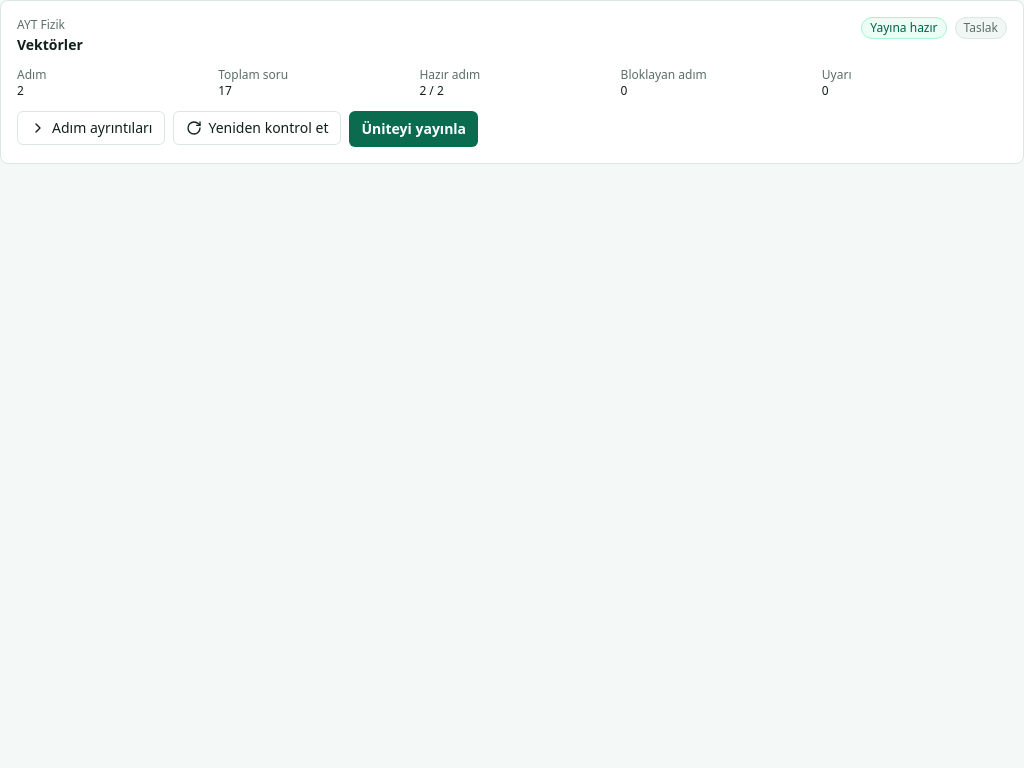
Test: PublishingUnitCard › opens the node details on a refusal so the blocking links resolve
Click the button "Üniteyi yayınla" at (414, 129), box [350,111,478,147]
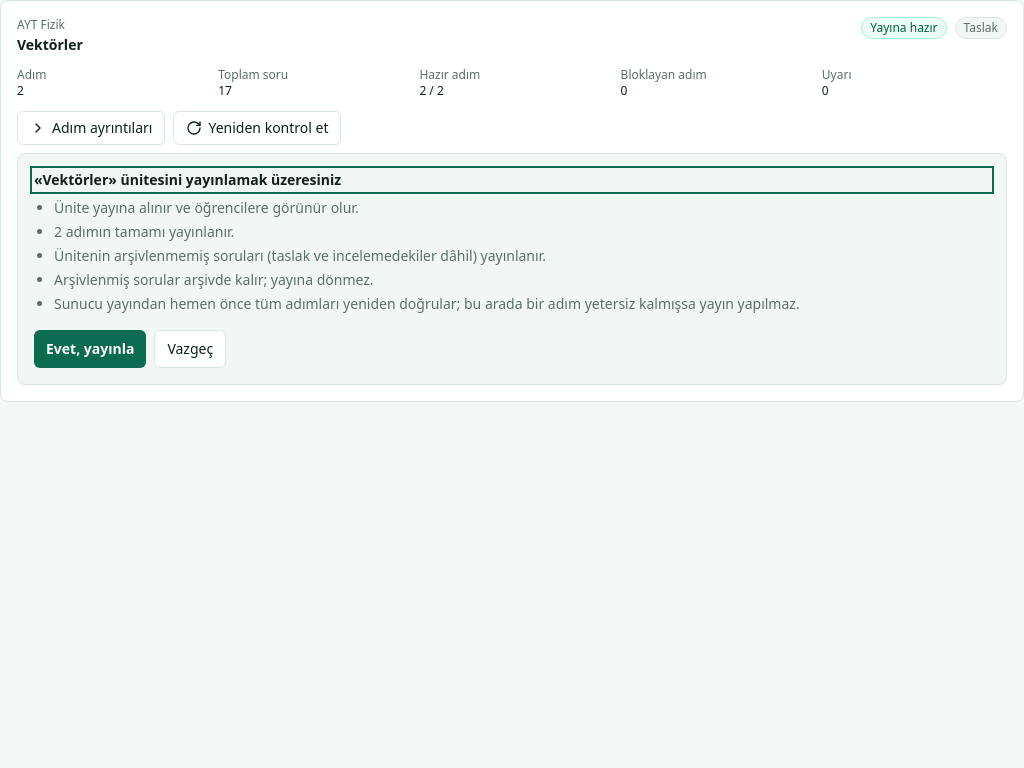
Click the button "Evet, yayınla" at (90, 349), box [34,330,146,368]
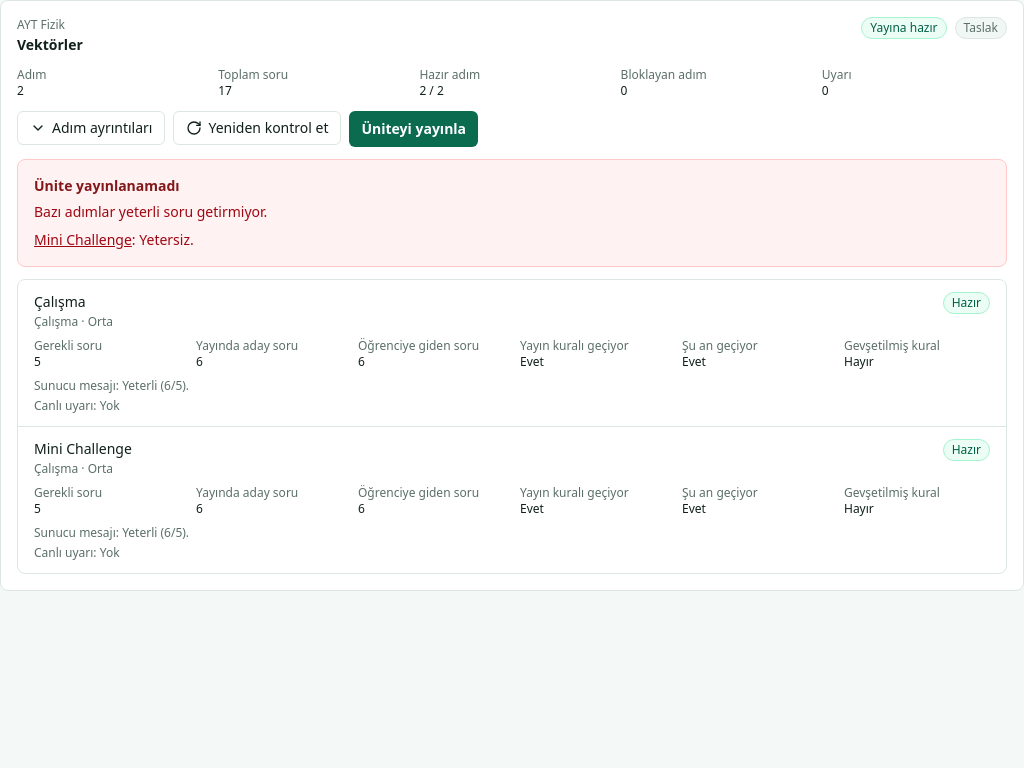
Now the button "Adım ayrıntıları" is expanded, box [17,111,166,145]
Now the list item with id "node-preview-312" is shown, box [18,427,1006,573]
